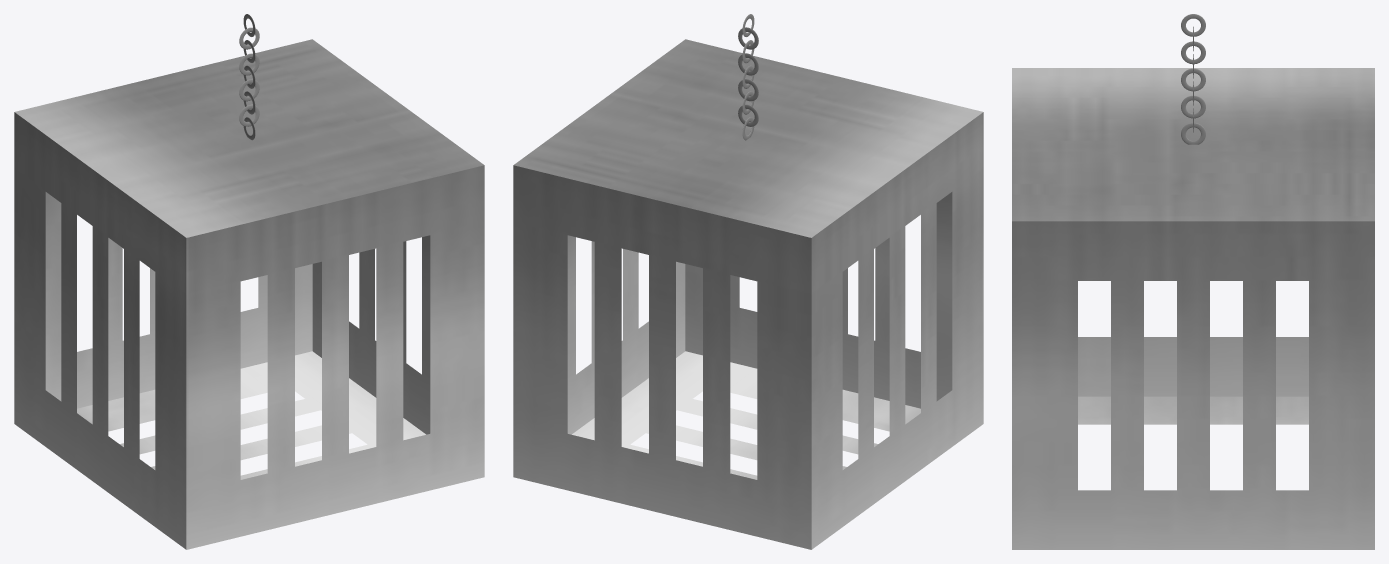
Rendered from Jaula2.fbx.
3 renders of one model, left to right at view 1: azimuth 30°, elevation 25°; view 2: azimuth 150°, elevation 25°; view 3: azimuth 270°, elevation 25°, orthographic. The views are drawn at different scales.
Visible parts, largest first — view 1: Cube; view 2: Cube; view 3: Cube.
Part boxes in pixels (x1,y1,x2,y2): Cube: (14, 39, 484, 549); Cube: (513, 39, 983, 549); Cube: (1012, 68, 1374, 549).
Size of the model in its own units: 200 by 279 by 200.
Materials: 2 (1 with a texture image).
